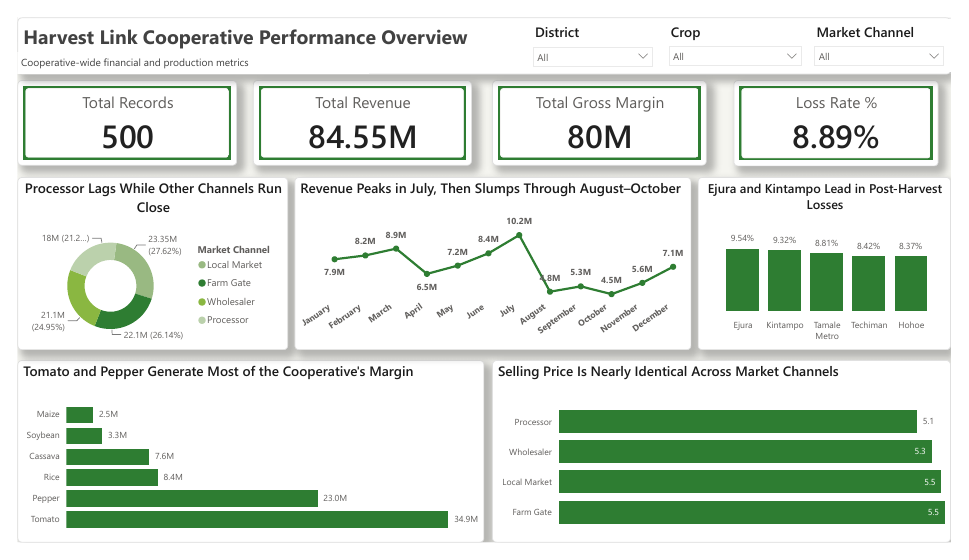

What the dashboard file says about the page in this screenshot:
{"tool":"powerbi","page":{"name":"Overview / KPI Summary","canvas":[1280,720],"ordinal":0},"visuals":[{"type":"cardVisual","fields":{"Data":["Farm_Records_RAW.Loss Rate %"]},"box":[982.5,86.2,281.2,117.5],"z":0},{"type":"cardVisual","fields":{"Data":["Farm_Records_RAW.Total Gross Margin"]},"box":[651.2,86.2,293.8,116.2],"z":1000},{"type":"cardVisual","fields":{"Data":["Farm_Records_RAW.Total Records"]},"box":[0,86.2,301.2,116.2],"z":2000},{"type":"cardVisual","fields":{"Data":["Farm_Records_RAW.Total Revenue"]},"box":[322.5,86.2,300,116.2],"z":3000},{"type":"textbox","box":[0,0,1280,77.5],"z":4000,"group":"g1"},{"type":"clusteredBarChart","title":"Tomato and Pepper Generate Most of the Cooperative''s Margin","fields":{"Category":["Crops.Crop"],"Y":["Farm_Records_RAW.Total Gross Margin"]},"box":[0,470,640,250],"z":4000},{"type":"slicer","fields":{"Values":["Districts.District"]},"box":[697.5,3.9,183.8,73.6],"z":5000,"group":"g1"},{"type":"donutChart","title":"Processor Lags While Other Channels Run Close","fields":{"Category":["Farm_Records_RAW.Market Channel"],"Y":["Farm_Records_RAW.Total Revenue"]},"box":[0,218.8,371.2,237.5],"z":5000},{"type":"slicer","fields":{"Values":["Crops.Crop"]},"box":[881.2,3.9,201.2,73.6],"z":6000,"group":"g1"},{"type":"lineChart","title":"Revenue Peaks in July, Then Slumps Through August–October","fields":{"Y":["Farm_Records_RAW.Total Revenue"],"Category":["Farm_Records_RAW.Record Date.Variation.Date Hierarchy.Month"]},"box":[380,218.8,543.8,237.5],"z":6000},{"type":"slicer","fields":{"Values":["Farm_Records_RAW.Market Channel"]},"box":[1082.5,3.9,197.5,73.6],"z":7000,"group":"g1"},{"type":"clusteredColumnChart","title":"Ejura and Kintampo Lead in Post-Harvest Losses","fields":{"Y":["Farm_Records_RAW.Loss Rate %"],"Category":["Districts.District"]},"box":[932.5,218.8,347.5,237.5],"z":7000},{"type":"clusteredBarChart","title":"Selling Price Is Nearly Identical Across Market Channels","fields":{"Y":["Farm_Records_RAW.Avg Selling Price"],"Category":["Farm_Records_RAW.Market Channel"]},"box":[651.2,470,628.8,250],"z":8000},{"type":"group","id":"g1","title":"Group 1","box":[0,0,1280,77.5],"z":9000},{"type":"textbox","box":[0,47.5,458.8,28.8],"z":10000}]}

Visuals, with their boxes in screenshot pixels (x1, y1, x2, y2), scaled from the page's 1280x720 canvas onto the 969x560 screenshot:
cardVisual - Farm_Records_RAW.Loss Rate %: crop(744, 67, 957, 158)
cardVisual - Farm_Records_RAW.Total Gross Margin: crop(493, 67, 715, 157)
cardVisual - Farm_Records_RAW.Total Records: crop(0, 67, 228, 157)
cardVisual - Farm_Records_RAW.Total Revenue: crop(244, 67, 471, 157)
textbox: crop(0, 0, 968, 60)
"Tomato and Pepper Generate Most of the Cooperative''s Margin" clusteredBarChart: crop(0, 366, 484, 559)
slicer - Districts.District: crop(528, 3, 667, 60)
"Processor Lags While Other Channels Run Close" donutChart: crop(0, 170, 281, 355)
slicer - Crops.Crop: crop(667, 3, 819, 60)
"Revenue Peaks in July, Then Slumps Through August–October" lineChart: crop(288, 170, 699, 355)
slicer - Farm_Records_RAW.Market Channel: crop(819, 3, 968, 60)
"Ejura and Kintampo Lead in Post-Harvest Losses" clusteredColumnChart: crop(706, 170, 968, 355)
"Selling Price Is Nearly Identical Across Market Channels" clusteredBarChart: crop(493, 366, 968, 559)
"Group 1" group: crop(0, 0, 968, 60)
textbox: crop(0, 37, 347, 59)
